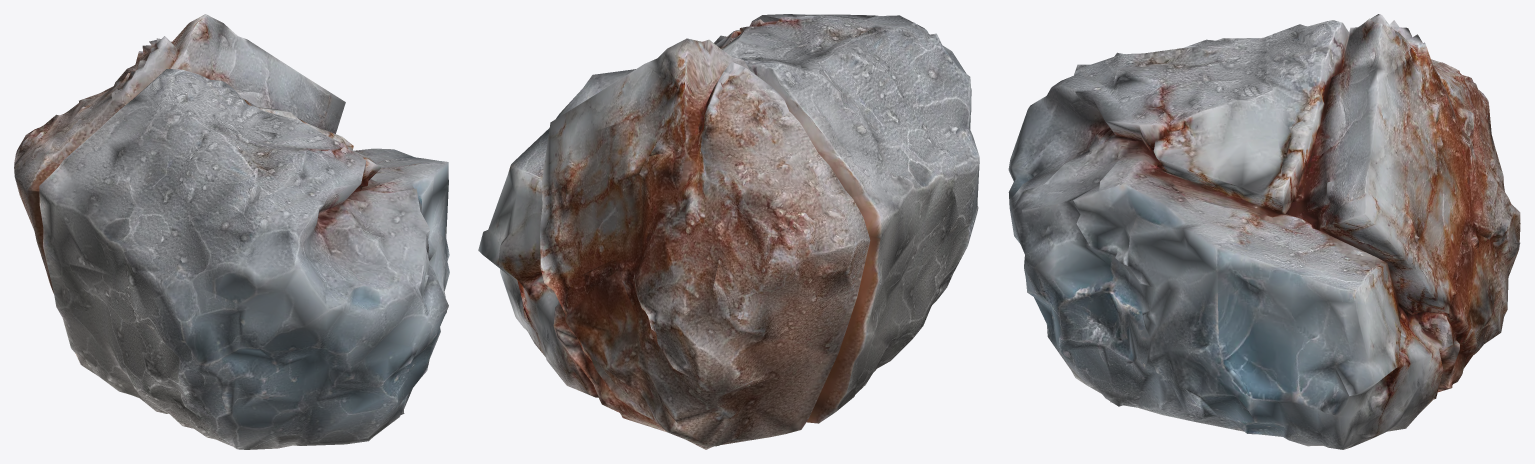
Rendered from rock-europa-ice.glb.
3 renders of one model, left to right at view 1: azimuth 30°, elevation 25°; view 2: azimuth 150°, elevation 25°; view 3: azimuth 270°, elevation 25°, orthographic. The views are drawn at different scales.
Visible parts, largest first — view 1: lod0; view 2: lod0; view 3: lod0.
Boxes of the visible parts, <box> form: lod0: <box>14,14,449,449</box>; lod0: <box>478,14,979,449</box>; lod0: <box>1008,14,1520,449</box>.
Size of what is drawn, in the model's own units: 0.8817 by 0.7618 by 0.9983.
1 material, 1 textured.
